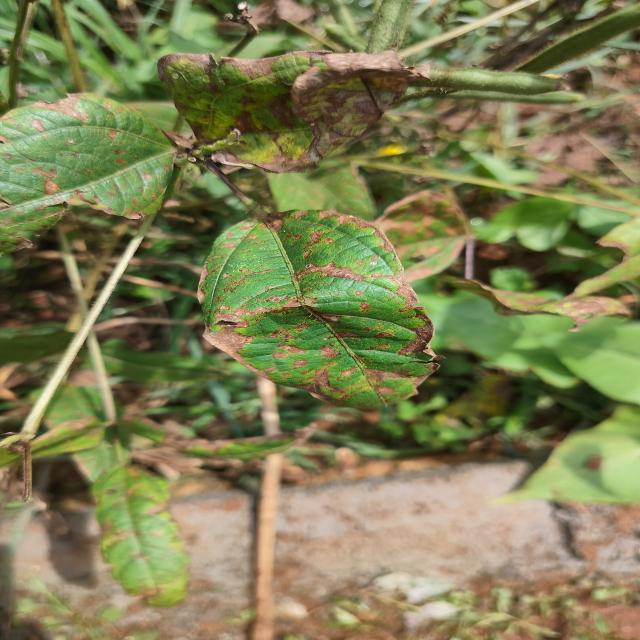Black gram_leaf spot: (198, 210, 438, 408), (156, 49, 430, 172), (0, 92, 174, 250)
